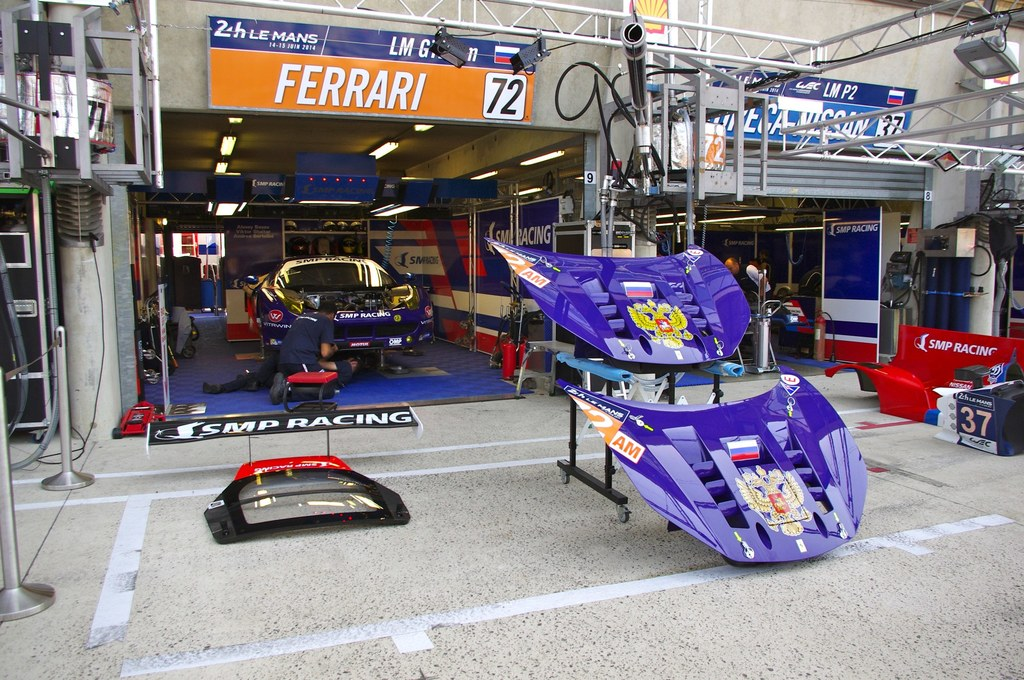Car: (243, 254, 433, 350)
